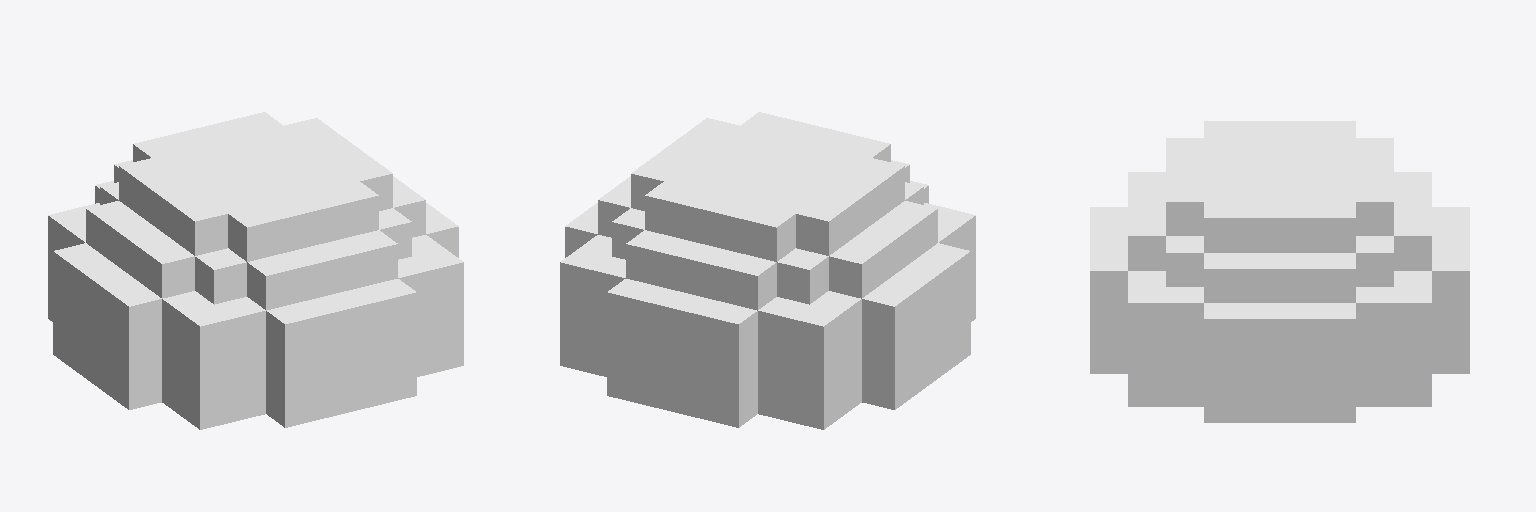
File: rock_small.vox.obj
3 renders of one model, left to right at view 1: azimuth 30°, elevation 25°; view 2: azimuth 150°, elevation 25°; view 3: azimuth 270°, elevation 25°, orthographic.
Parts seen in each view (by area): view 1: object 1; view 2: object 1; view 3: object 1.
Boxes of the visible parts, x1=… form: object 1: x1=48, y1=112, x2=463, y2=429; object 1: x1=560, y1=112, x2=975, y2=429; object 1: x1=1090, y1=121, x2=1469, y2=422.
Bounding box in the file's own units: 1 × 0.5 × 1.